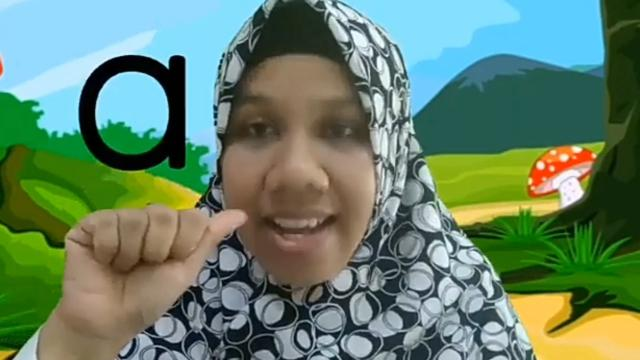A: (62, 204, 248, 327)
